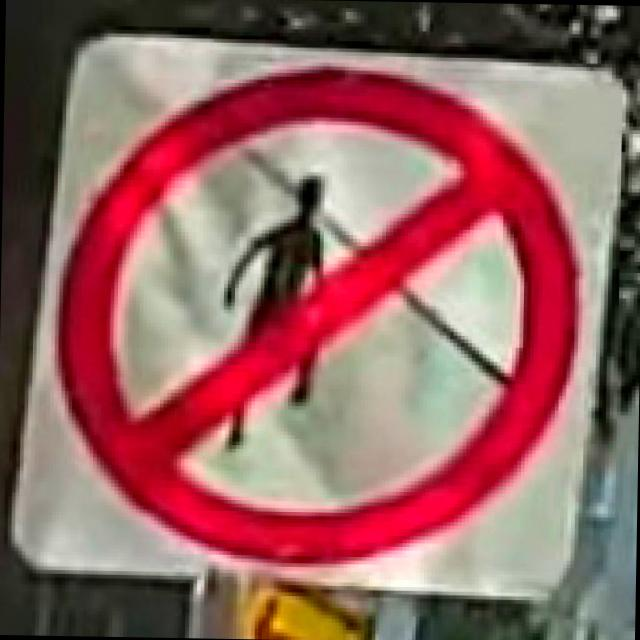nojaywalking_sign: (61, 38, 586, 586)
